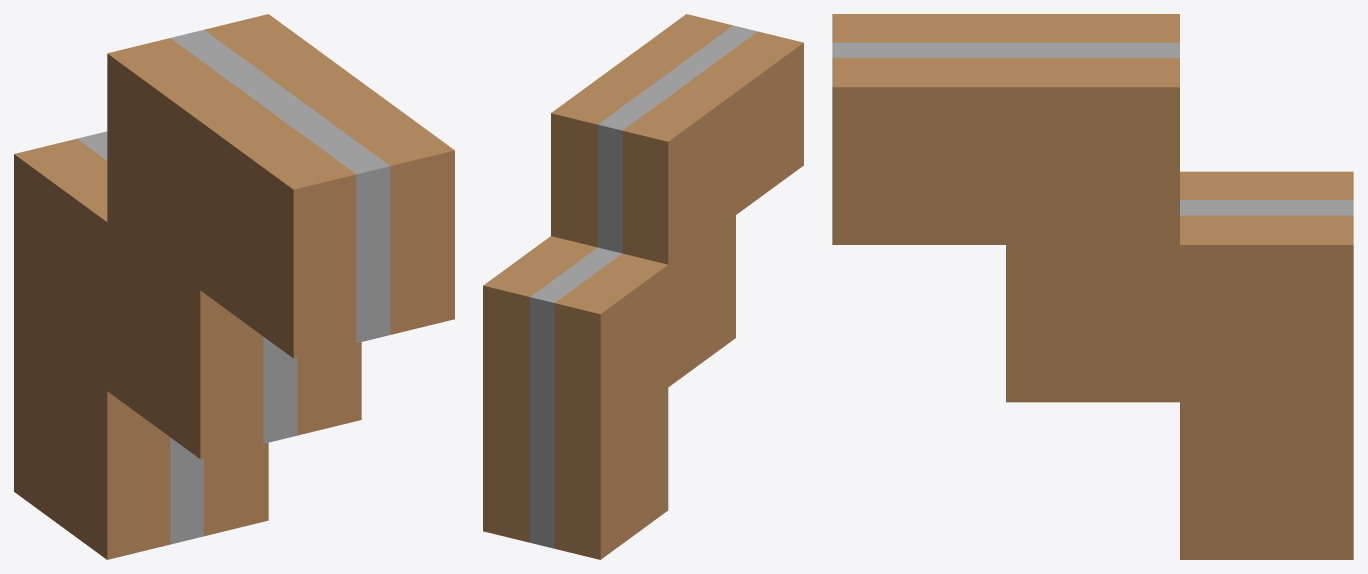
3 views of the same model, side by side, from view 1: azimuth 30°, elevation 25°; view 2: azimuth 150°, elevation 25°; view 3: azimuth 270°, elevation 25° (orthographic). The views are drawn at different scales.
Parts seen in each view (by area): view 1: M Box; view 2: M Box; view 3: M Box.
Part boxes in pixels (x1,y1,x2,y2): M Box: [14, 14, 454, 559]; M Box: [483, 14, 803, 559]; M Box: [832, 14, 1353, 559].
Size of the model in its own units: 1 by 3 by 3.
